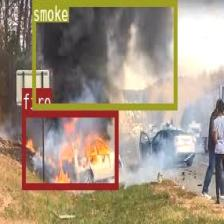fire: (22, 110, 118, 188)
smoke: (32, 0, 176, 107)
